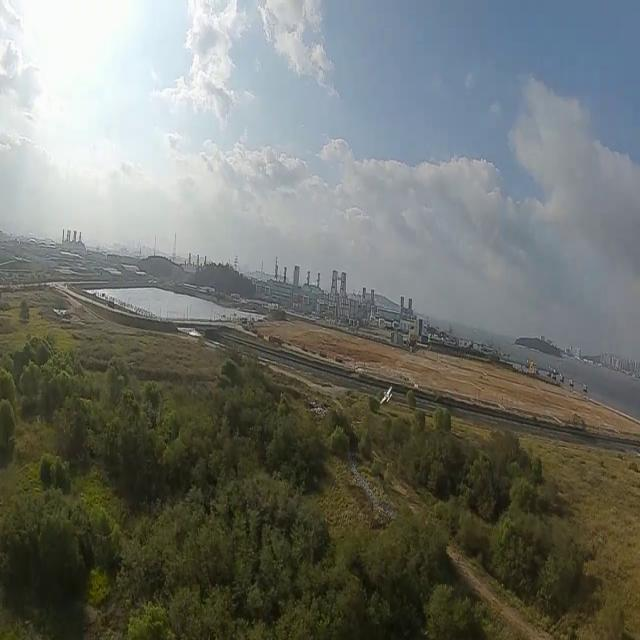iha: (379, 378, 395, 399)
